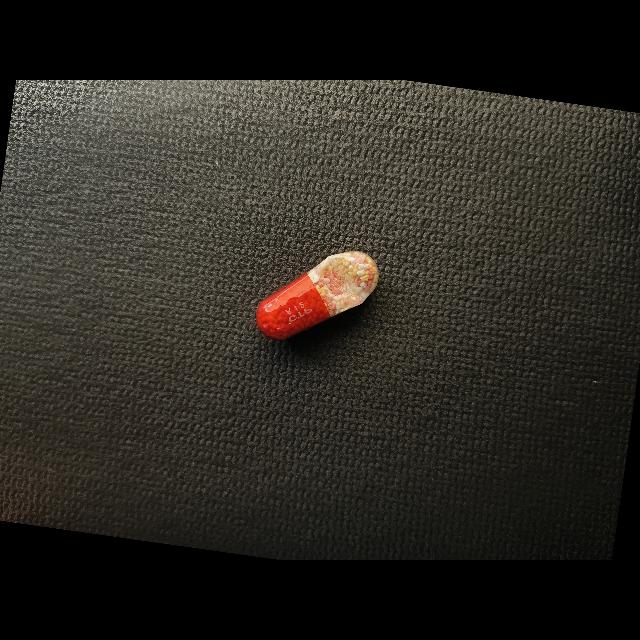Defective Capsule: (256, 251, 379, 340)
